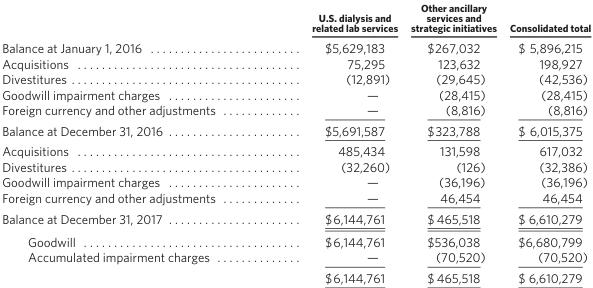table: (1, 0, 590, 284)
table column: (1, 0, 263, 284), (263, 0, 403, 284), (403, 0, 502, 284), (502, 0, 590, 284)
table column header: (1, 0, 590, 36)
table row: (1, 0, 590, 36), (1, 207, 590, 229), (1, 119, 590, 140), (1, 36, 590, 55), (1, 229, 590, 248), (1, 101, 590, 119), (1, 140, 590, 158), (1, 189, 590, 207), (1, 248, 590, 266), (1, 266, 590, 284), (1, 70, 590, 86), (1, 173, 590, 189), (1, 55, 590, 70), (1, 86, 590, 101), (1, 158, 590, 173)
